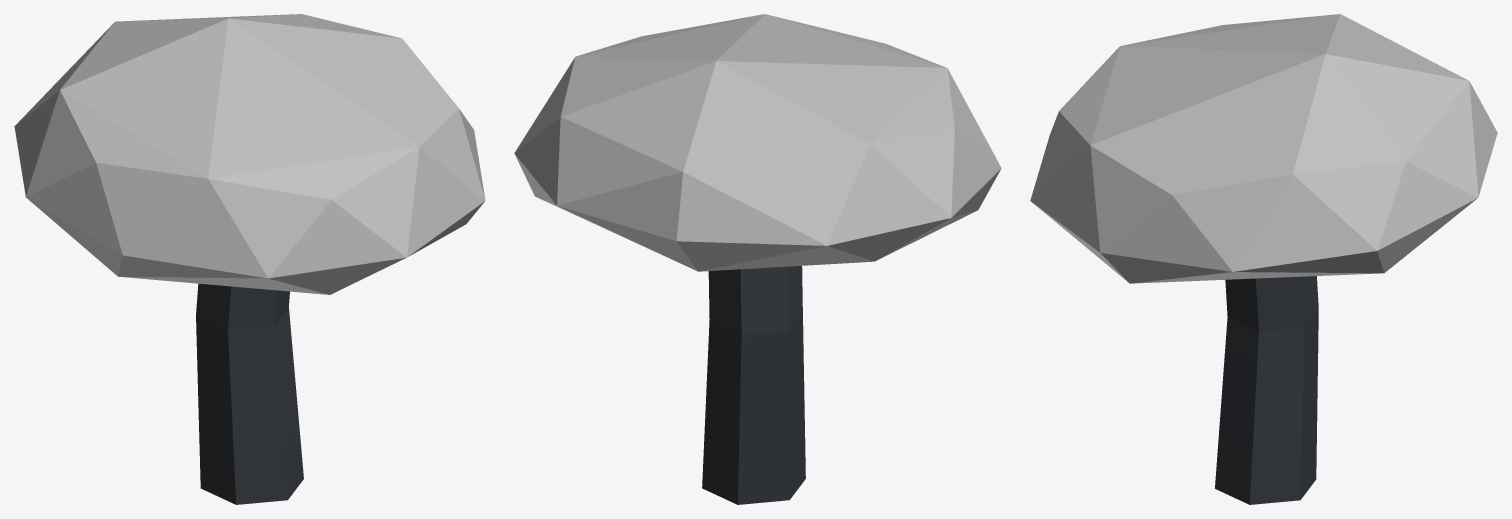
The model's file is Mushroom_04.fbx.
3 views of the same model, side by side, from view 1: azimuth 30°, elevation 25°; view 2: azimuth 150°, elevation 25°; view 3: azimuth 270°, elevation 25° (orthographic). The views are drawn at different scales.
Visible parts, largest first — view 1: Mushroom_04; view 2: Mushroom_04; view 3: Mushroom_04.
Part boxes in pixels (left/top/right/bottom): Mushroom_04: left=14, top=14, right=485, bottom=504; Mushroom_04: left=514, top=14, right=1001, bottom=504; Mushroom_04: left=1030, top=14, right=1497, bottom=504.
Size of the model in its own units: 0.2222 by 0.2249 by 0.2199.
